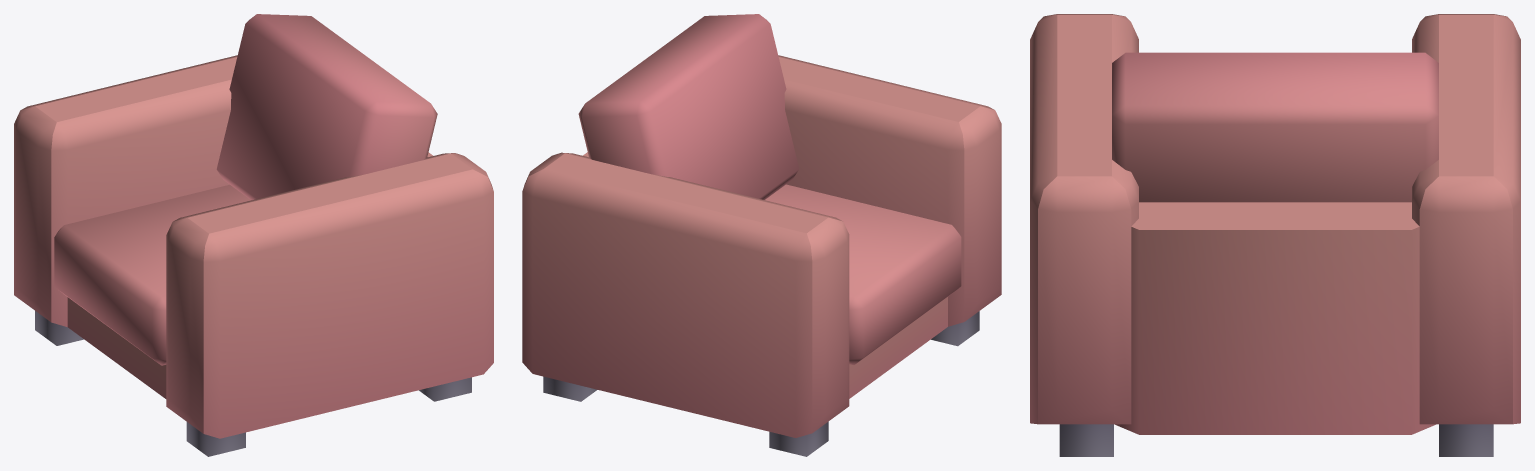
The model's file is amsterdam-chair.glb.
The picture shows the model from 3 angles, left to right: view 1: azimuth 30°, elevation 25°; view 2: azimuth 150°, elevation 25°; view 3: azimuth 270°, elevation 25°; orthographic projection. The views are drawn at different scales.
Parts seen in each view (by area): view 1: amsterdam-chair; view 2: amsterdam-chair; view 3: amsterdam-chair.
Boxes of the visible parts, bbox=[...] form: amsterdam-chair: bbox=[14, 14, 493, 456]; amsterdam-chair: bbox=[522, 14, 1001, 456]; amsterdam-chair: bbox=[1030, 14, 1520, 456].
Bounding box in the file's own units: 0.8 × 0.7323 × 0.9.
